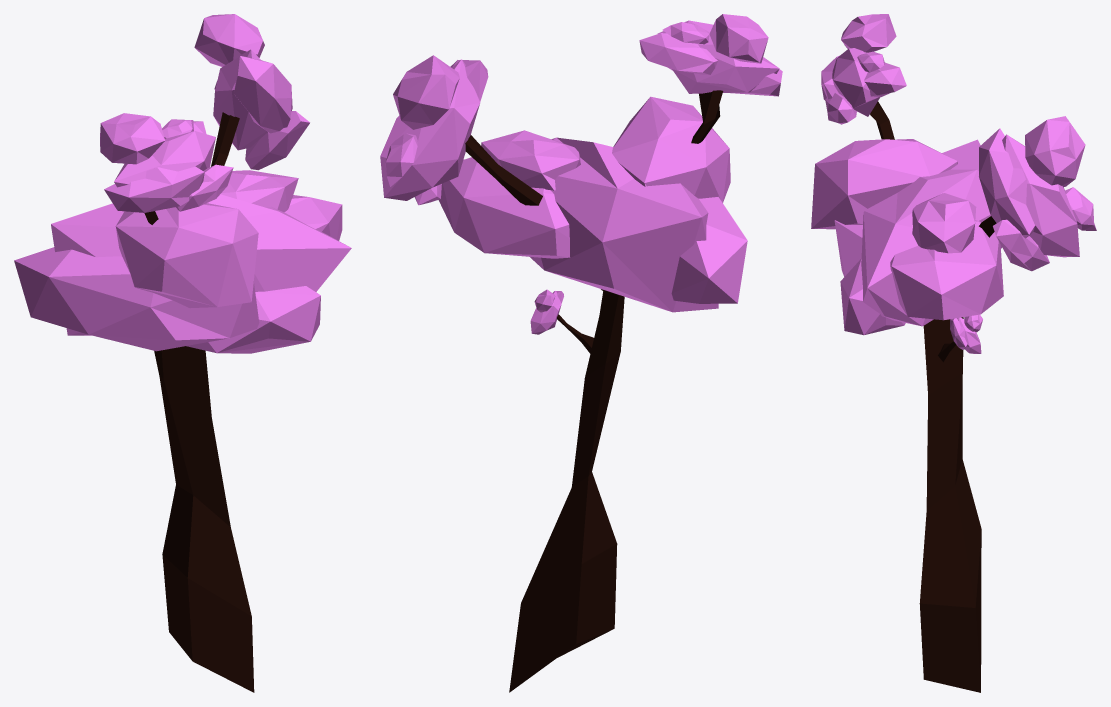
Rendered from sakura_3.FBX.
3 renders of one model, left to right at view 1: azimuth 30°, elevation 25°; view 2: azimuth 150°, elevation 25°; view 3: azimuth 270°, elevation 25°, orthographic. The views are drawn at different scales.
Visible parts, largest first — view 1: Box018; view 2: Box018; view 3: Box018.
Boxes of the visible parts, box(x1,y1,x2,y2) form: Box018: box(14, 14, 351, 692); Box018: box(380, 14, 782, 692); Box018: box(811, 14, 1096, 692).
Bounding box in the file's own units: 3.44 × 7.02 × 3.02.
